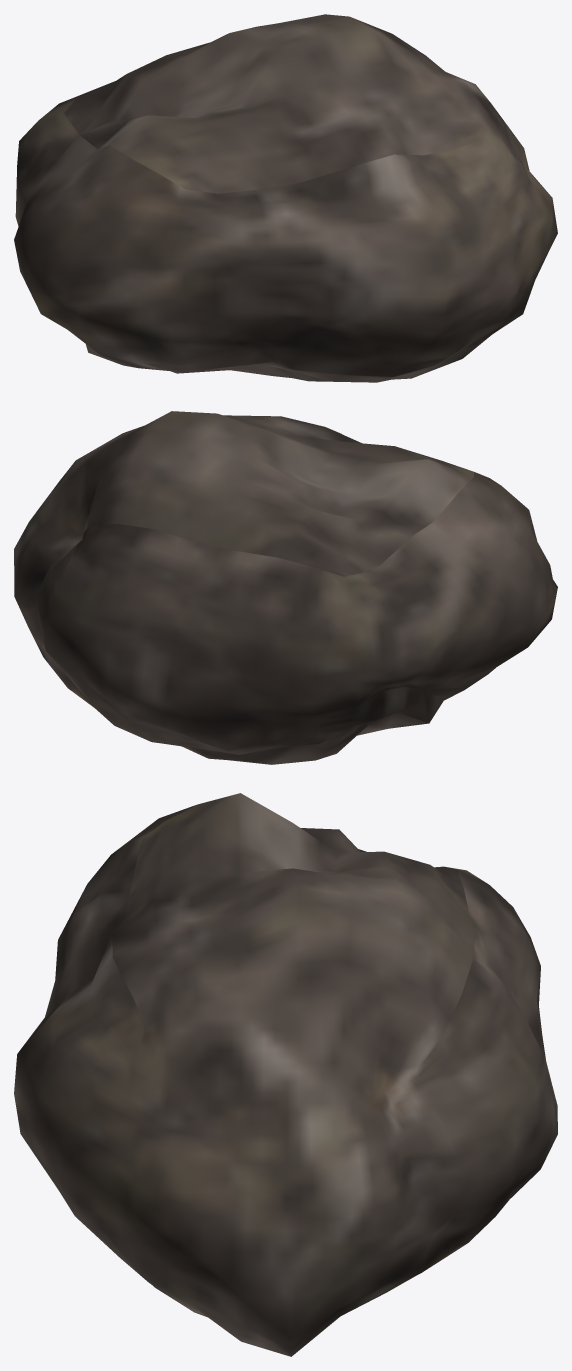
File: Menu_AsteroidToTexture.fbx
3 renders of one model, top to bottom at view 1: azimuth 30°, elevation 25°; view 2: azimuth 150°, elevation 25°; view 3: azimuth 270°, elevation 25°, orthographic. The views are drawn at different scales.
Visible parts, largest first — view 1: Asteroid_1; view 2: Asteroid_1; view 3: Asteroid_1.
Boxes of the visible parts, <box> form: Asteroid_1: <box>14,14,557,382</box>; Asteroid_1: <box>14,411,557,764</box>; Asteroid_1: <box>14,793,557,1356</box>.
Bounding box in the file's own units: 276 × 173 × 214.
Materials: 1 (1 with a texture image).
